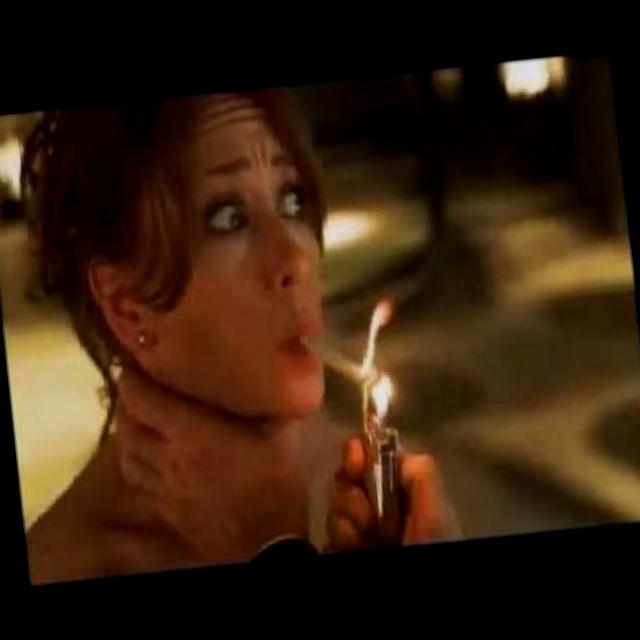smoke: (302, 325, 375, 400)
